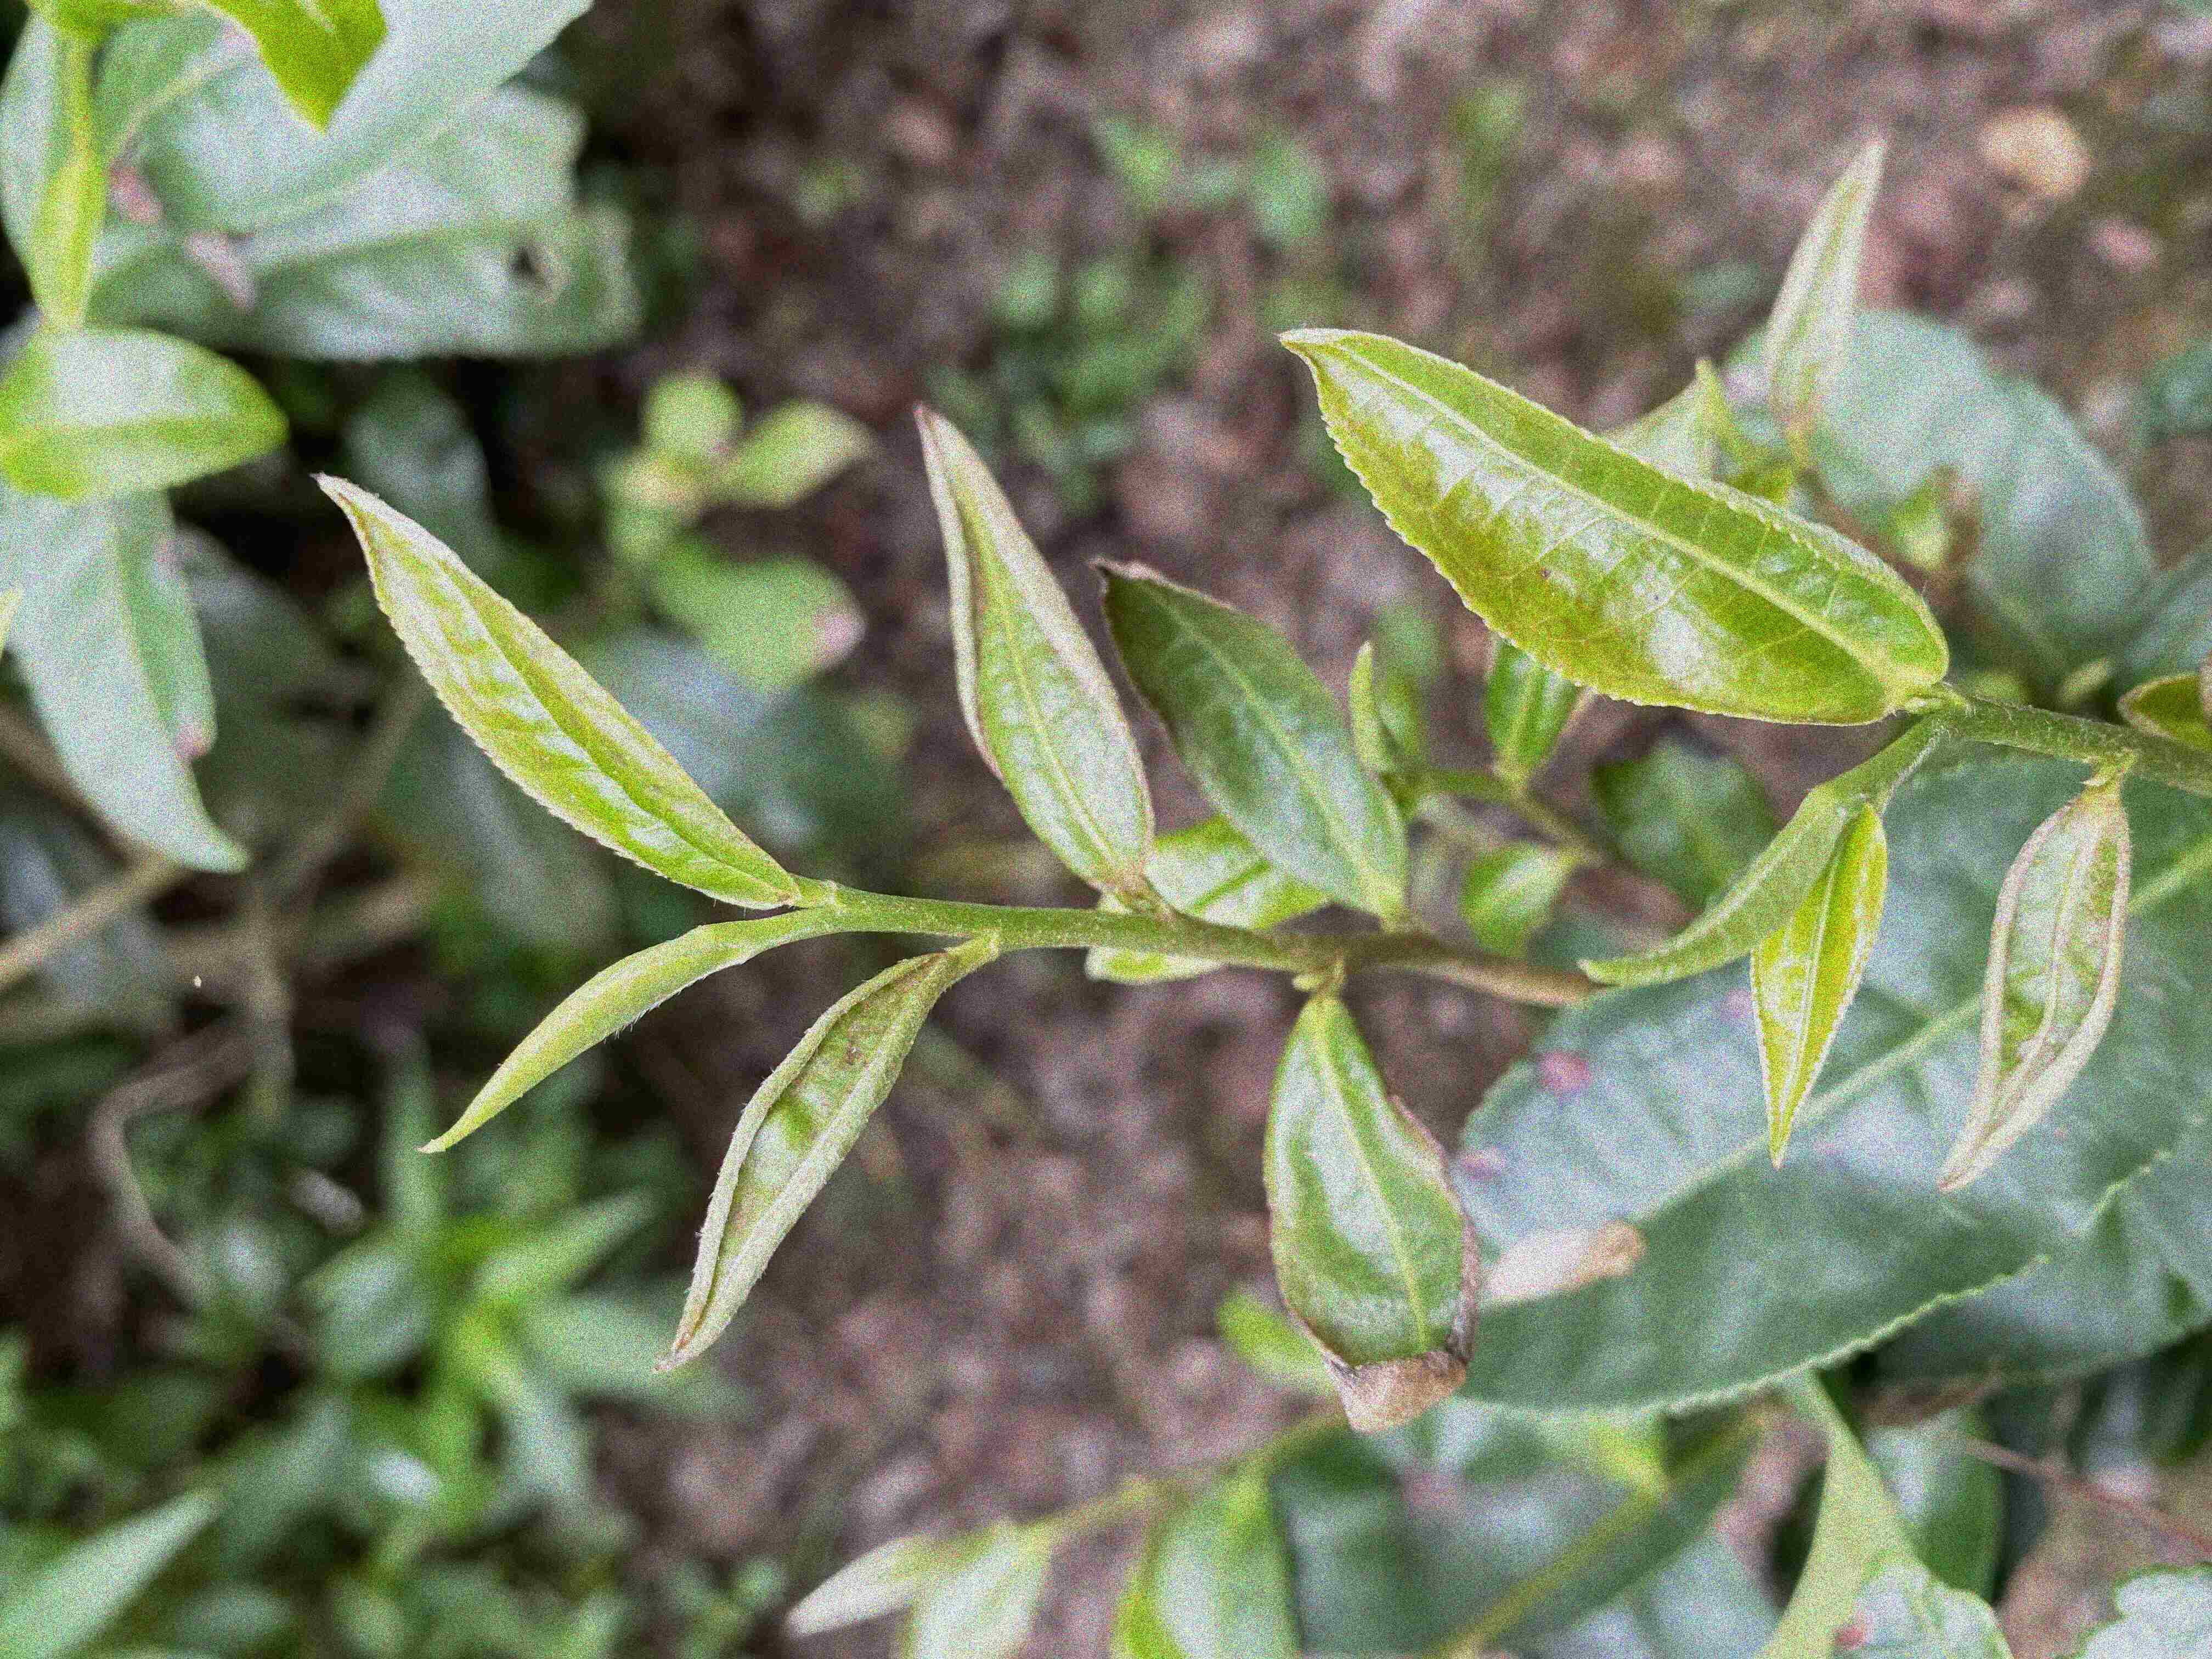healthy: (1277, 322, 1952, 728), (315, 471, 803, 911), (657, 953, 954, 1371), (1745, 802, 1892, 1171)
tanju_high: (1258, 992, 1484, 1436)
tanju_low: (911, 403, 1158, 896), (1932, 789, 2132, 1199)
